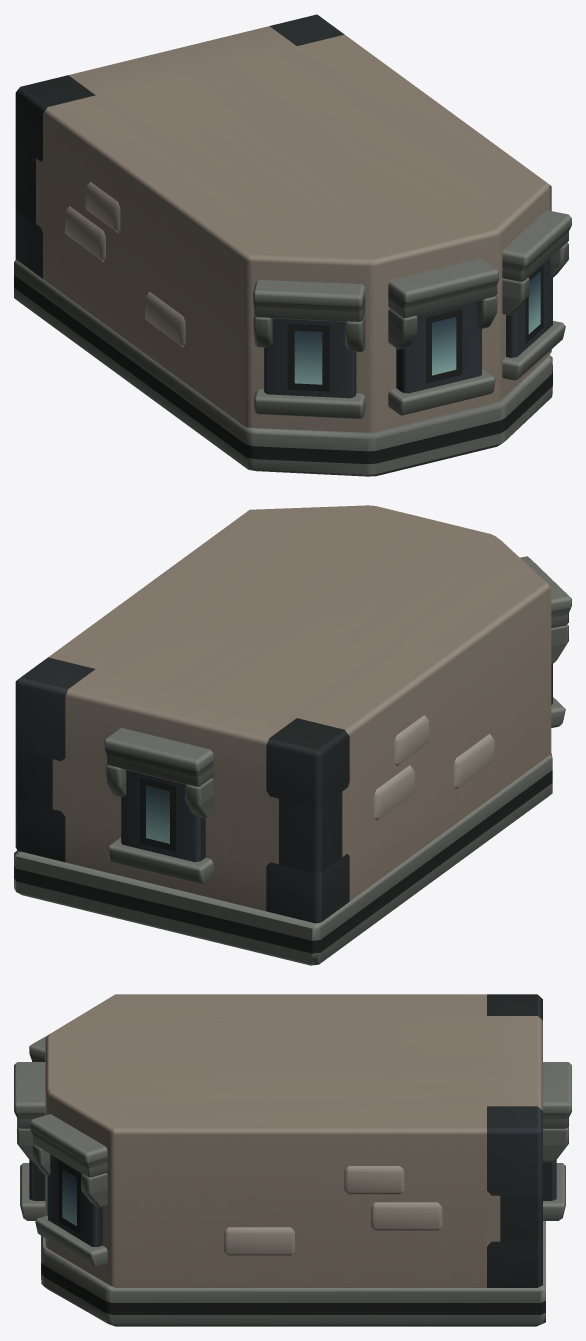
The model's file is appartment_type4_element_cream.fbx.
3 renders of one model, top to bottom at view 1: azimuth 30°, elevation 25°; view 2: azimuth 150°, elevation 25°; view 3: azimuth 270°, elevation 25°, orthographic. The views are drawn at different scales.
Visible parts, largest first — view 1: appartment_type4_element_cream; view 2: appartment_type4_element_cream; view 3: appartment_type4_element_cream.
Part boxes in pixels (x1,y1,x2,y2): appartment_type4_element_cream: [14, 14, 571, 476]; appartment_type4_element_cream: [14, 505, 571, 965]; appartment_type4_element_cream: [14, 994, 571, 1326].
Bounding box in the file's own units: 630 × 409 × 1043.
